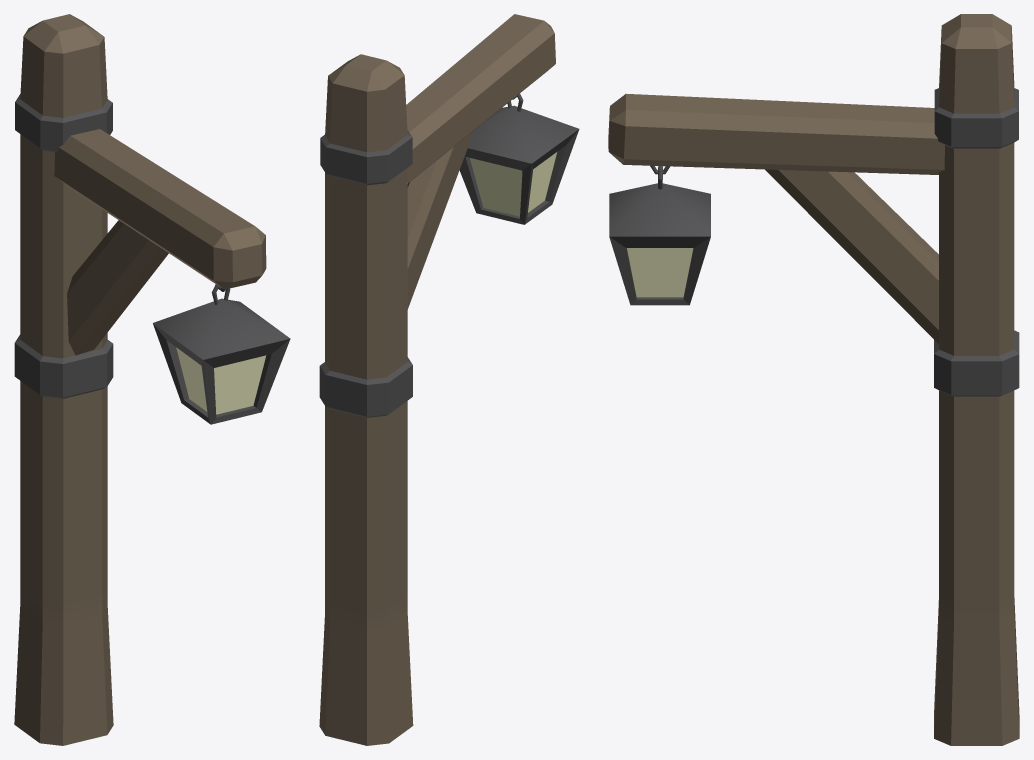
Rendered from Lantaarnpaal.fbx.
3 views of the same model, side by side, from view 1: azimuth 30°, elevation 25°; view 2: azimuth 150°, elevation 25°; view 3: azimuth 270°, elevation 25° (orthographic). The views are drawn at different scales.
Parts seen in each view (by area): view 1: polySurface362; view 2: polySurface362; view 3: polySurface362.
Boxes of the visible parts, left/top/right/bottom form: polySurface362: left=14, top=14, right=290, bottom=745; polySurface362: left=319, top=14, right=579, bottom=745; polySurface362: left=608, top=14, right=1019, bottom=745.
Size of the model in its own units: 0.2928 by 2.25 by 1.18.
